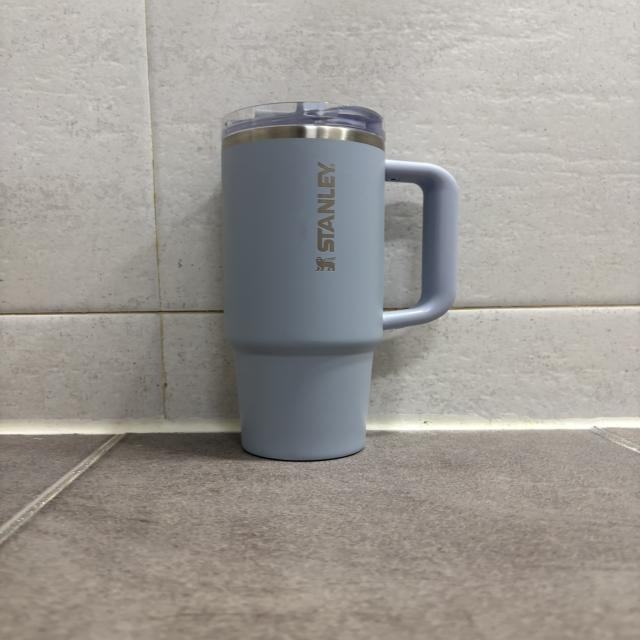waterbottle: (224, 101, 458, 463)
